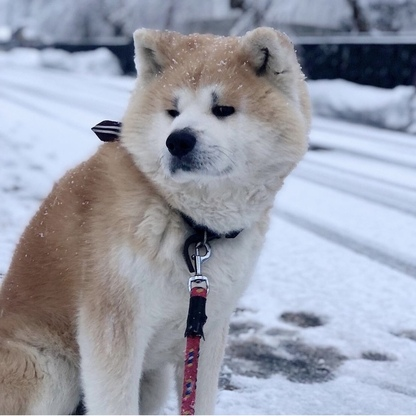akita: (2, 19, 321, 416)
